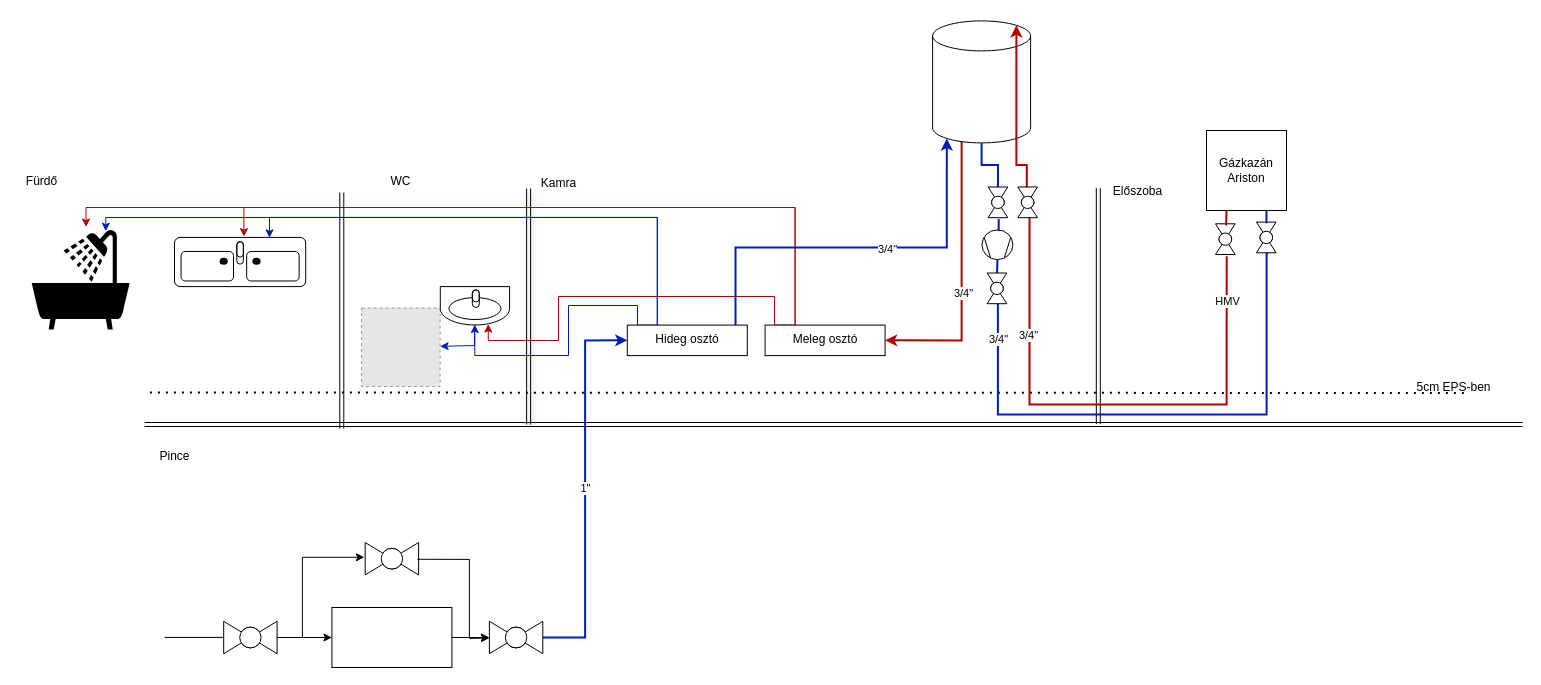
This 1541x685 diagram has some shape labels left out. Grey dashed boxes stand in for pictures. The centre of each missing label's shape, as x and y in pixels:
"Bojler" goes at [981,81].
"Szűrő" goes at [391,637].
